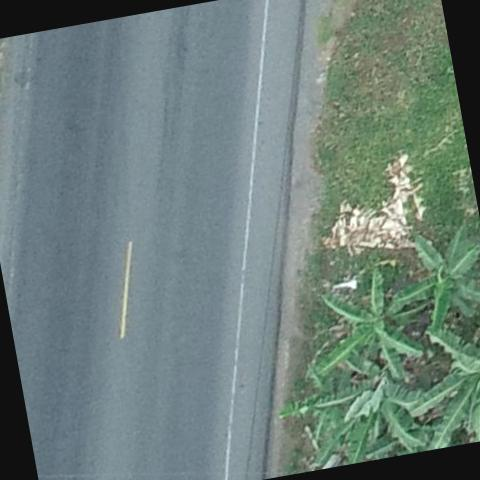Banana-plant: (297, 254, 439, 392), (306, 350, 442, 469), (379, 221, 480, 345), (396, 306, 480, 452)
